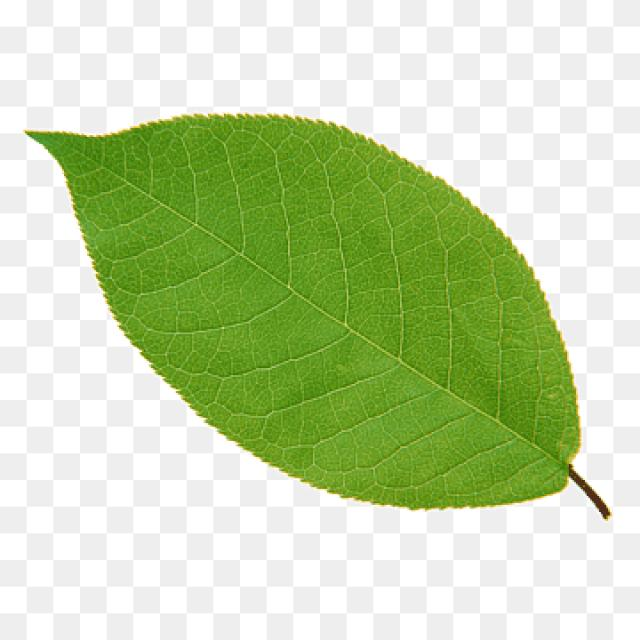kayisi yapragi: (22, 98, 584, 520)
